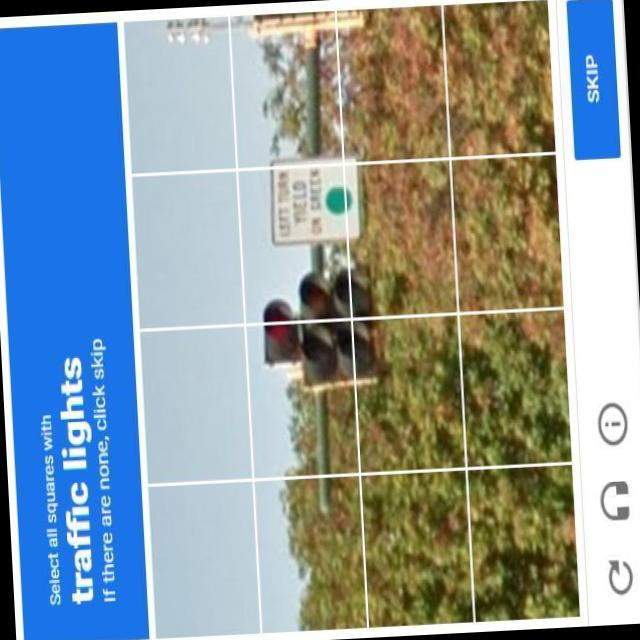red-lights: (262, 299, 302, 364)
